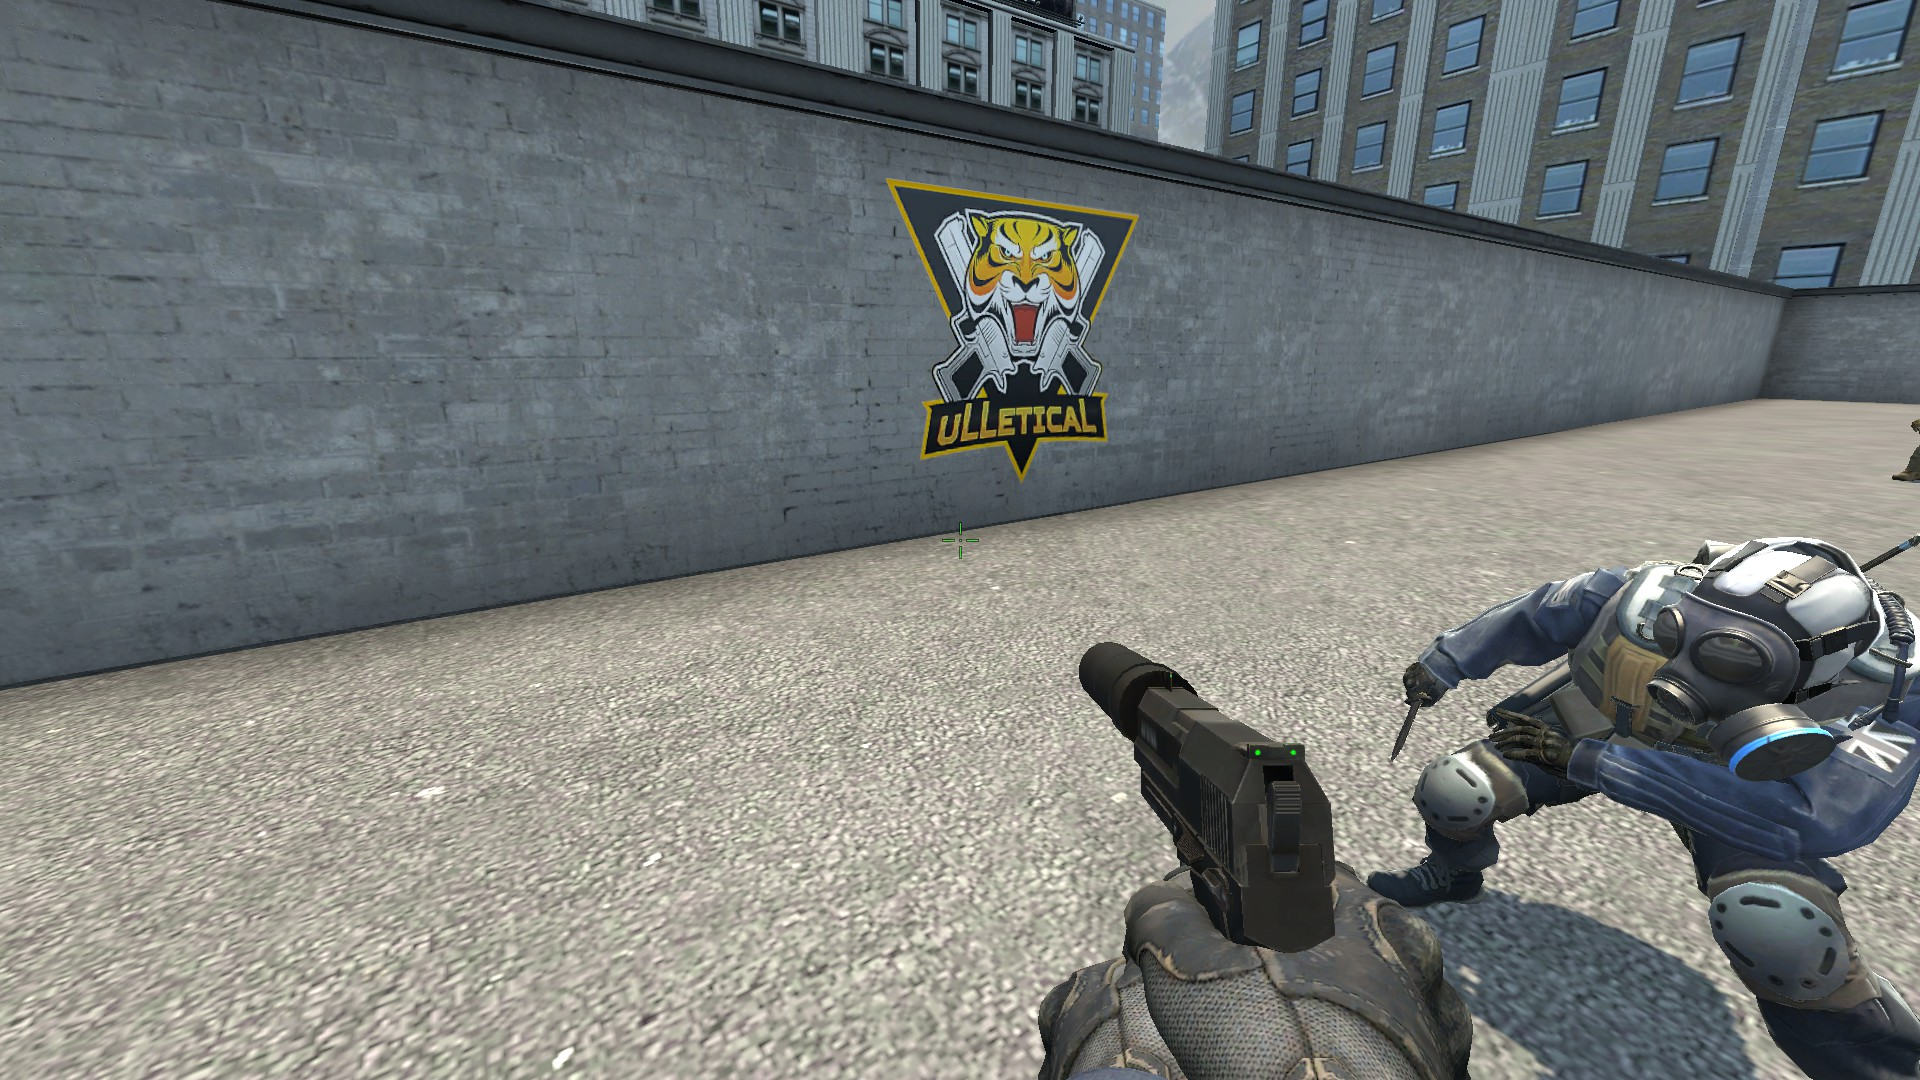ct: (1364, 524, 1920, 1079)
ct head: (1642, 527, 1880, 785)
